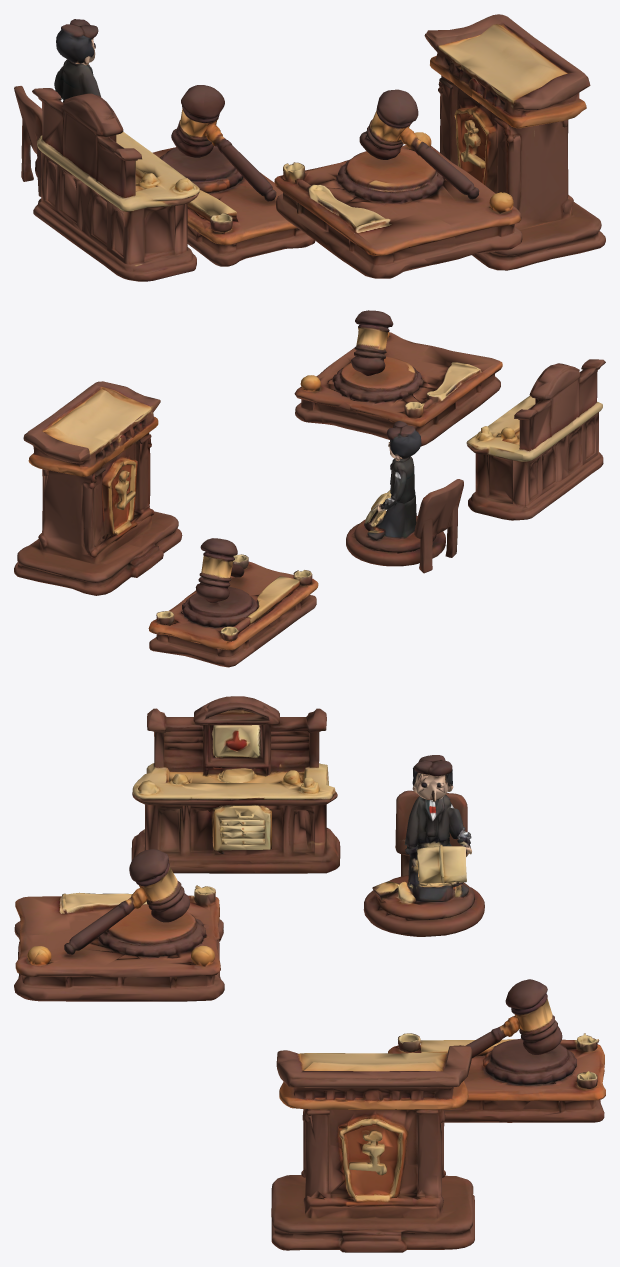
Rendered from tripo_h31_courtroom_judge_bench_kit.glb.
3 renders of one model, top to bottom at view 1: azimuth 30°, elevation 25°; view 2: azimuth 150°, elevation 25°; view 3: azimuth 270°, elevation 25°, orthographic. The views are drawn at different scales.
Parts seen in each view (by area): view 1: tripo_node_e73e6f1e-d588-48a2-b319-7a91af0c75a1; view 2: tripo_node_e73e6f1e-d588-48a2-b319-7a91af0c75a1; view 3: tripo_node_e73e6f1e-d588-48a2-b319-7a91af0c75a1.
Part boxes in pixels (box(x1,y1,x2,y2)): tripo_node_e73e6f1e-d588-48a2-b319-7a91af0c75a1: box(14, 14, 605, 281); tripo_node_e73e6f1e-d588-48a2-b319-7a91af0c75a1: box(14, 310, 605, 667); tripo_node_e73e6f1e-d588-48a2-b319-7a91af0c75a1: box(14, 696, 605, 1252).
Size of the model in its own units: 0.9797 by 0.492 by 0.9032.
1 material, 1 textured.
